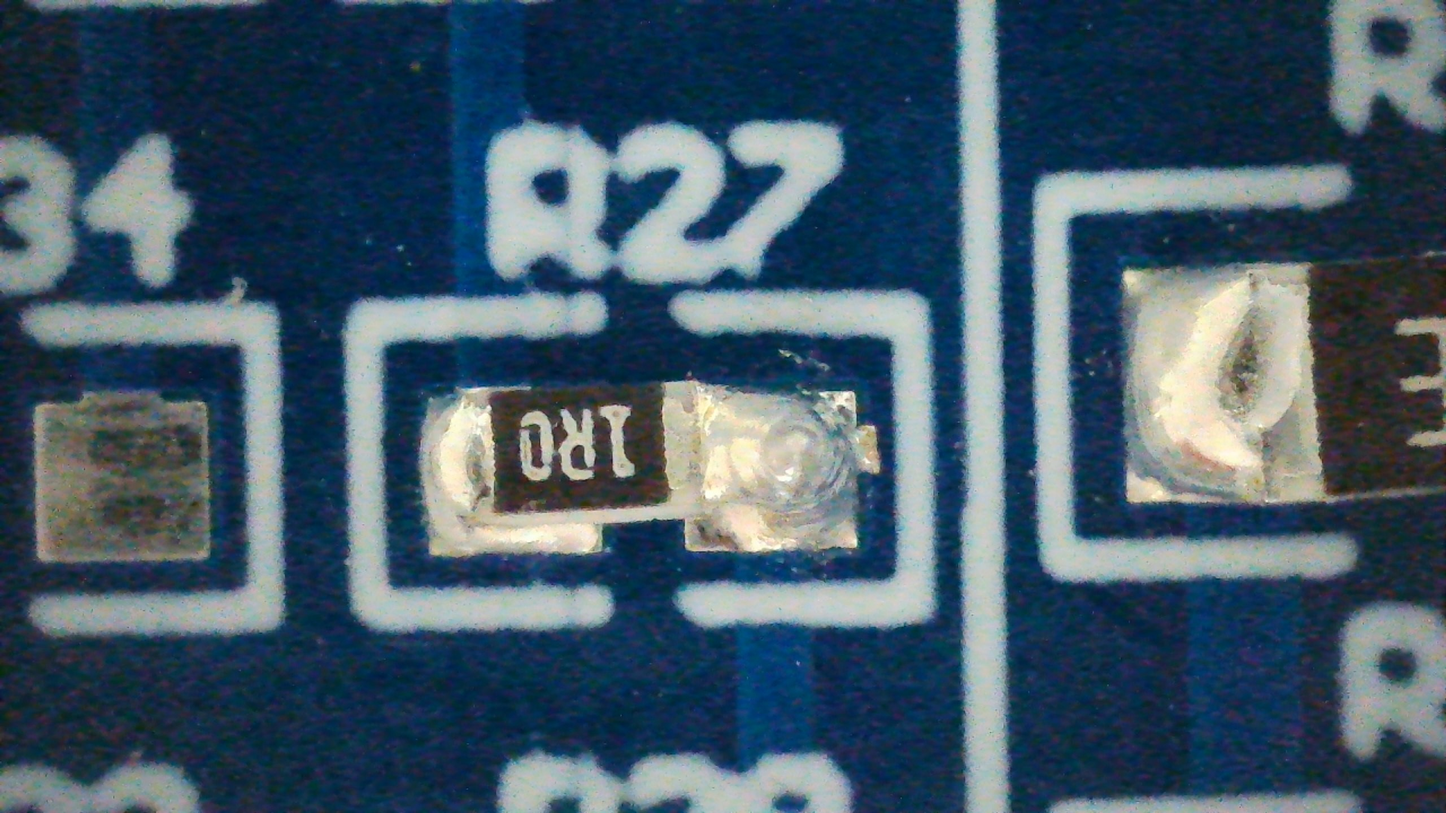NG: (421, 382, 881, 556)
